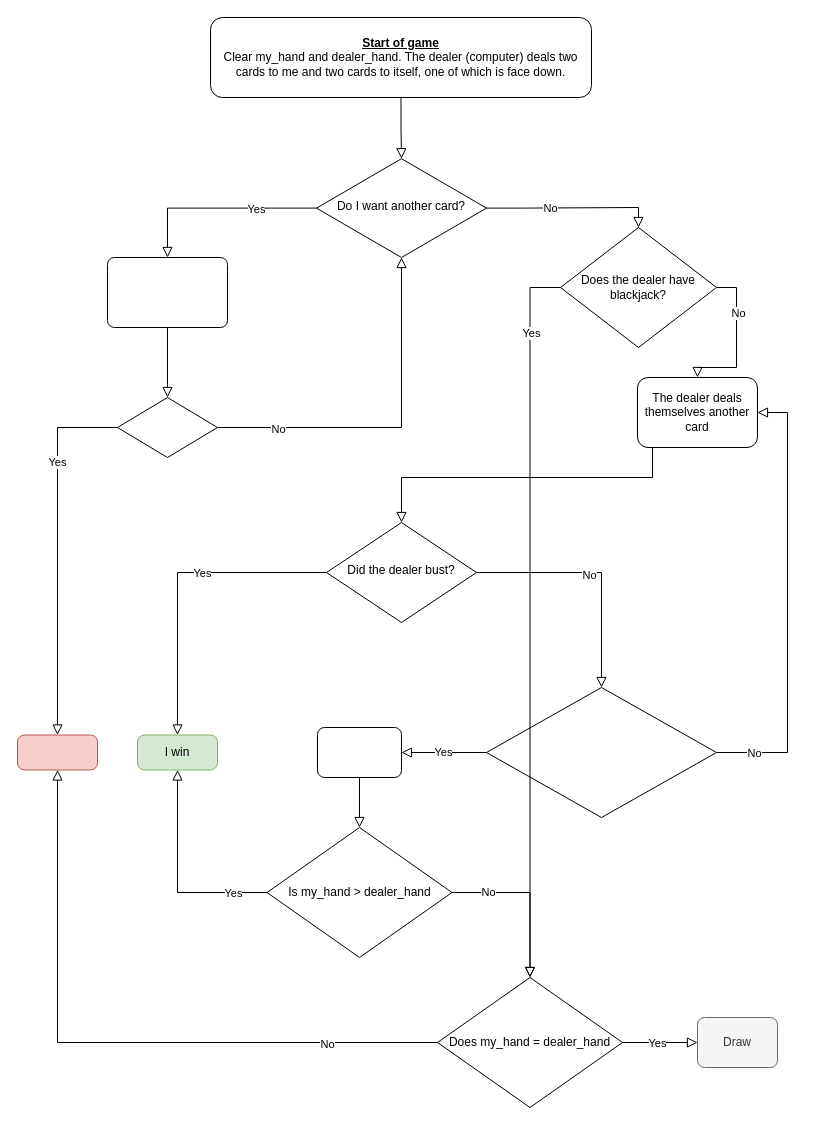
This 815x1125 diagram has some shape labels left out. Here are the shapes that lost their labels. From the top down, the centre of each, then its label:
At [167,292]: "Dealer deals me another card".
At [167,427]: "Did I bust?".
At [57,752]: "I lose".
At [359,752]: "Dealer stands".
At [601,752]: "Is the sum of the dealer_hand > 16?".
